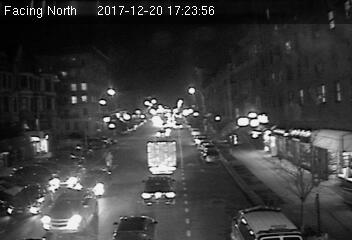car: (44, 188, 100, 229), (141, 176, 178, 204), (75, 169, 112, 197), (200, 149, 219, 163)
police: (229, 205, 305, 240)
truck: (145, 136, 178, 175)
